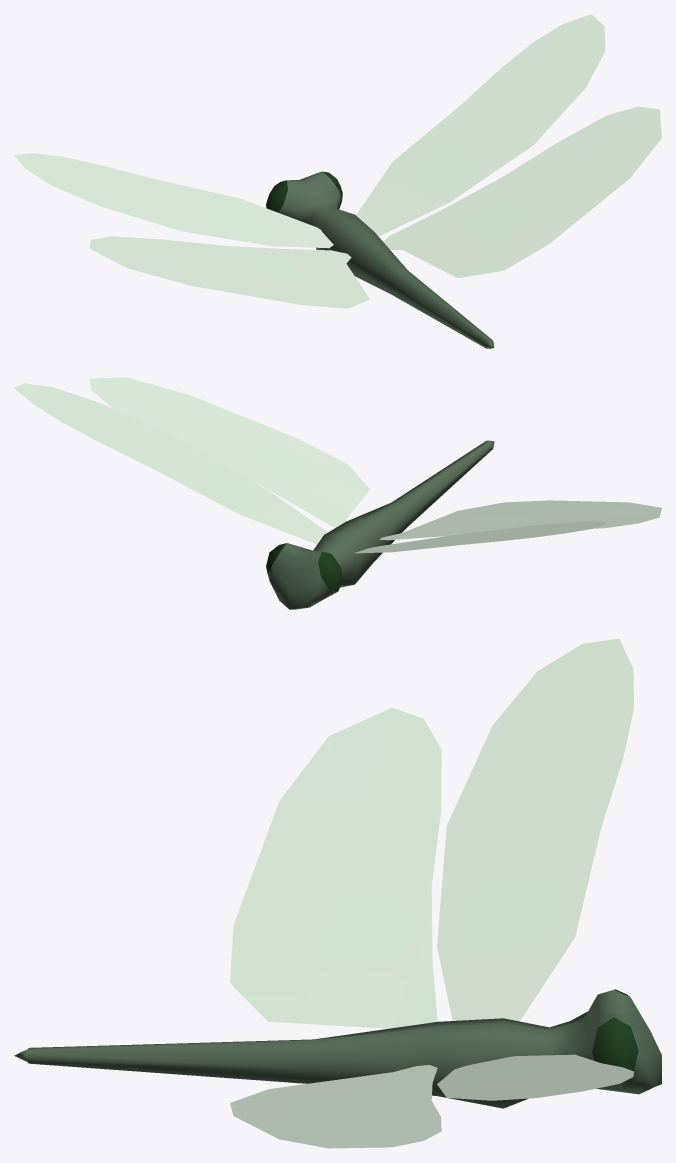
The model's file is dragonfly.glb.
The picture shows the model from 3 angles, top to bottom: view 1: azimuth 30°, elevation 25°; view 2: azimuth 150°, elevation 25°; view 3: azimuth 270°, elevation 25°; orthographic projection. The views are drawn at different scales.
Visible parts, largest first — view 1: Dragonfly_3; view 2: Dragonfly_3; view 3: Dragonfly_3.
Part boxes in pixels (x1,y1,x2,y2): Dragonfly_3: [14, 14, 661, 348]; Dragonfly_3: [14, 377, 661, 609]; Dragonfly_3: [14, 638, 661, 1148].
Bounding box in the file's own units: 0.2399 × 0.0616 × 0.1468.
1 material, 1 textured.
